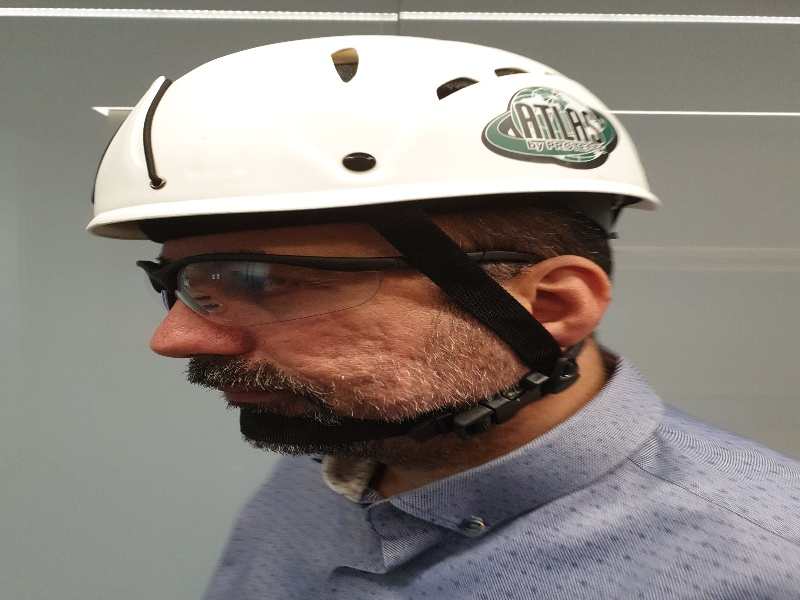Baret: (86, 35, 656, 243)
Gozluk: (134, 249, 540, 327)
